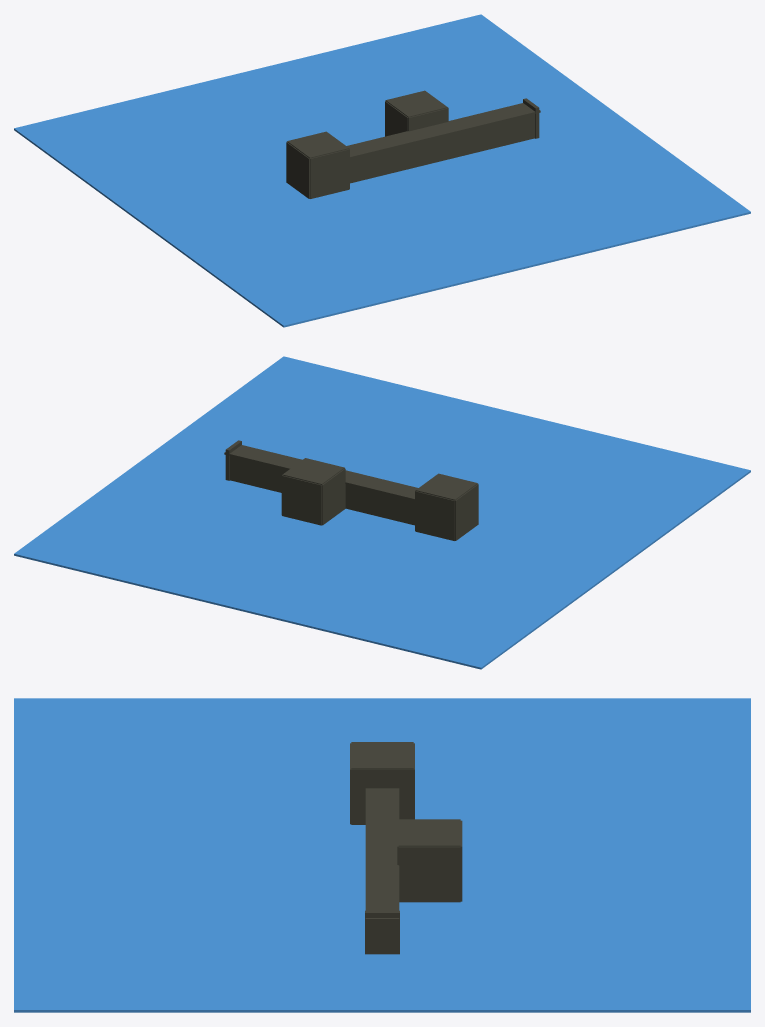
3 renders of one model, top to bottom at view 1: azimuth 30°, elevation 25°; view 2: azimuth 150°, elevation 25°; view 3: azimuth 270°, elevation 25°, orthographic. The views are drawn at different scales.
Visible parts, largest first — view 1: Cube, Cube.009, Cube.010, Cube.004, Cube.002, Cube.005, Cube.015, Cube.016; view 2: Cube, Cube.010, Cube.008, Cube.018, Cube.001, Cube.012, Cube.016, Cube.002, Cube.005, Cube.015; view 3: Cube, Cube.010, Cube.019, Cube.005, Cube.015, Cube.011, Cube.006, Cube.007.
Part boxes in pixels (x1=…): Cube: x1=14, y1=14, x2=750, y2=327; Cube.009: x1=350, y1=114, x2=534, y2=183; Cube.010: x1=346, y1=103, x2=540, y2=158; Cube.004: x1=310, y1=149, x2=349, y2=198; Cube.002: x1=286, y1=142, x2=309, y2=198; Cube.005: x1=287, y1=131, x2=349, y2=158; Cube.015: x1=385, y1=90, x2=447, y2=117; Cube.016: x1=385, y1=101, x2=408, y2=136; Cube: x1=14, y1=356, x2=750, y2=669; Cube.010: x1=224, y1=445, x2=418, y2=500; Cube.008: x1=345, y1=484, x2=414, y2=525; Cube.018: x1=282, y1=475, x2=321, y2=525; Cube.001: x1=415, y1=491, x2=454, y2=540; Cube.012: x1=230, y1=456, x2=287, y2=492; Cube.016: x1=322, y1=468, x2=345, y2=525; Cube.002: x1=455, y1=484, x2=478, y2=540; Cube.005: x1=415, y1=473, x2=477, y2=500; Cube.015: x1=282, y1=458, x2=344, y2=484; Cube: x1=14, y1=698, x2=750, y2=1012; Cube.010: x1=365, y1=788, x2=399, y2=921; Cube.019: x1=398, y1=846, x2=460, y2=902; Cube.005: x1=351, y1=742, x2=413, y2=769; Cube.015: x1=398, y1=819, x2=460, y2=846; Cube.011: x1=365, y1=910, x2=399, y2=954; Cube.006: x1=351, y1=769, x2=373, y2=824; Cube.007: x1=391, y1=769, x2=413, y2=819.
Bounding box in the file's own units: 262 × 26.21 × 262.
